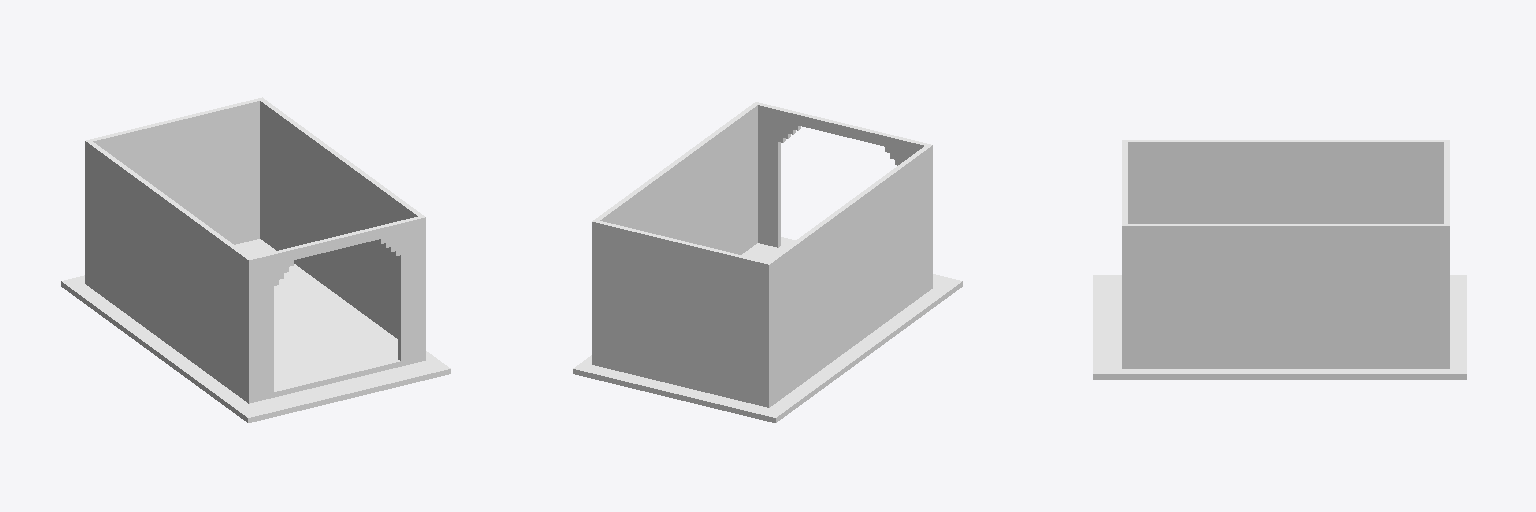
Rendered from houseBase.obj.
3 views of the same model, side by side, from view 1: azimuth 30°, elevation 25°; view 2: azimuth 150°, elevation 25°; view 3: azimuth 270°, elevation 25° (orthographic).
Parts seen in each view (by area): view 1: object 1; view 2: object 1; view 3: object 1.
Part boxes in pixels (bbox=[...]): object 1: bbox=[61, 97, 450, 422]; object 1: bbox=[573, 102, 962, 422]; object 1: bbox=[1093, 140, 1466, 379].
Bounding box in the file's own units: 4 × 2.8 × 6.4.